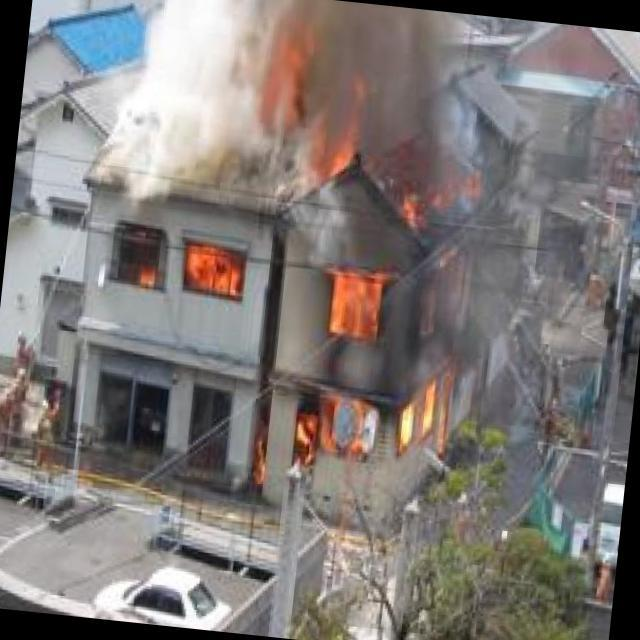Fire: (250, 161, 489, 532), (250, 54, 384, 166), (129, 242, 248, 306)
